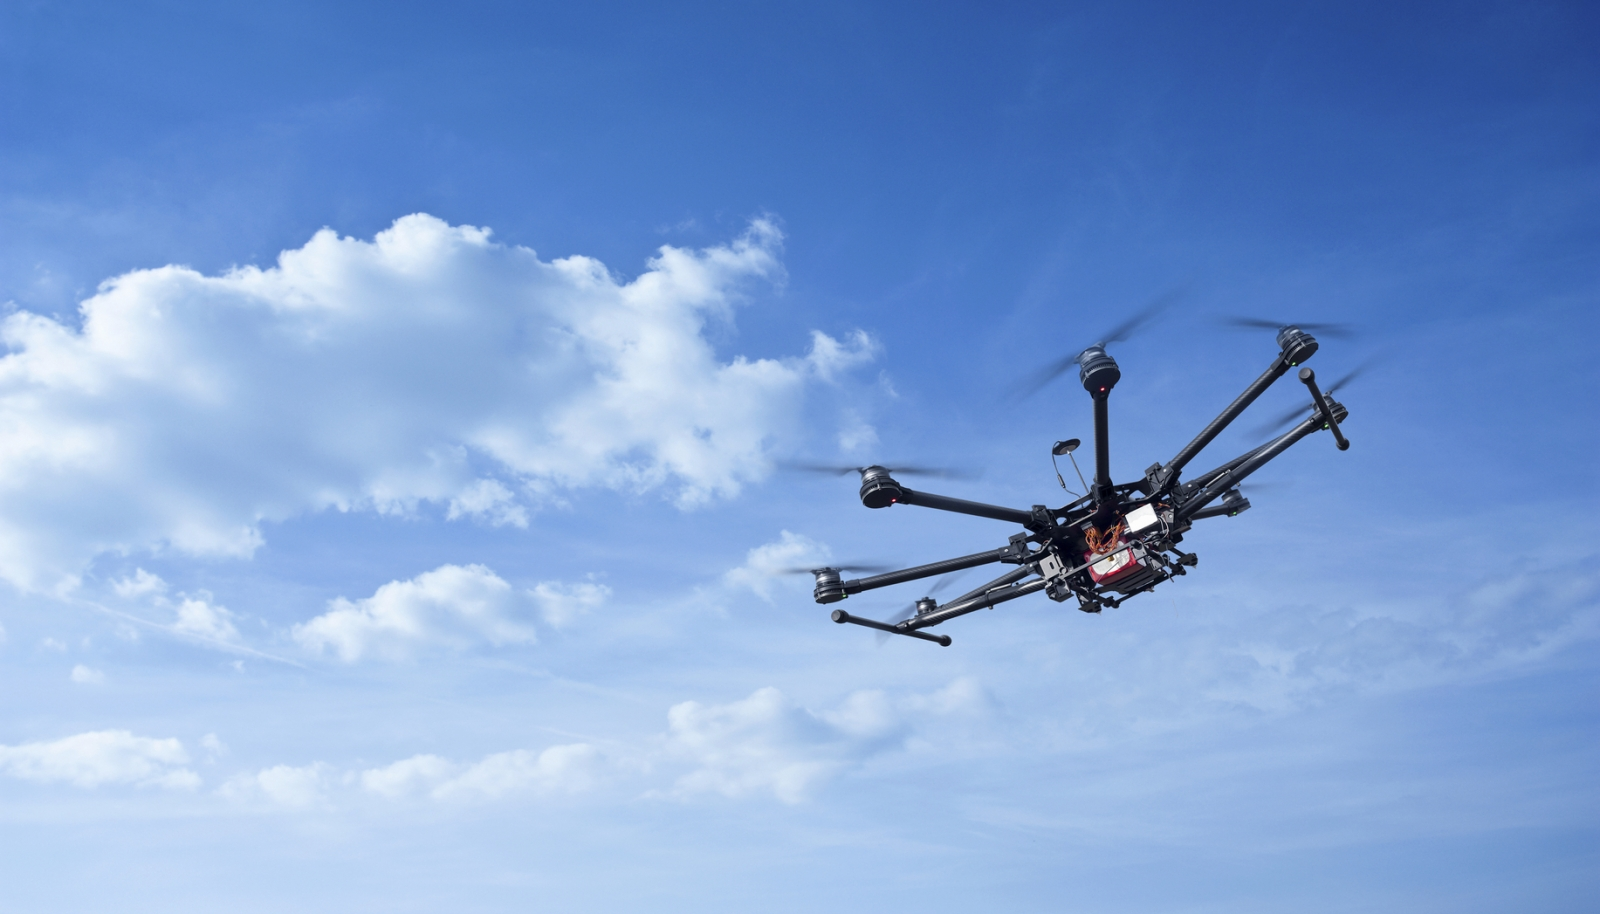drone: (764, 296, 1407, 651)
